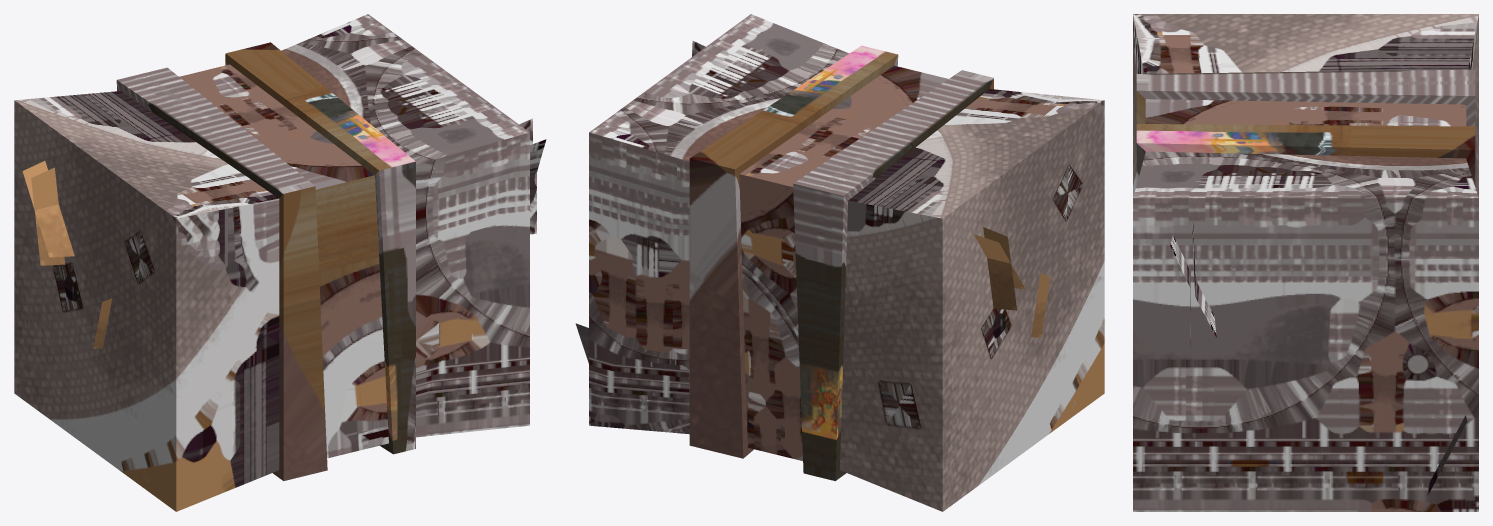
Rendered from SquareWheat.fbx.
The picture shows the model from 3 angles, left to right: view 1: azimuth 30°, elevation 25°; view 2: azimuth 150°, elevation 25°; view 3: azimuth 270°, elevation 25°; orthographic projection. The views are drawn at different scales.
Visible parts, largest first — view 1: SM_Wheat_low; view 2: SM_Wheat_low; view 3: SM_Wheat_low.
Boxes of the visible parts, bbox=[...] form: SM_Wheat_low: bbox=[14, 14, 546, 511]; SM_Wheat_low: bbox=[575, 14, 1104, 511]; SM_Wheat_low: bbox=[1133, 14, 1478, 511].
Size of the model in its own units: 159 by 108 by 108.
